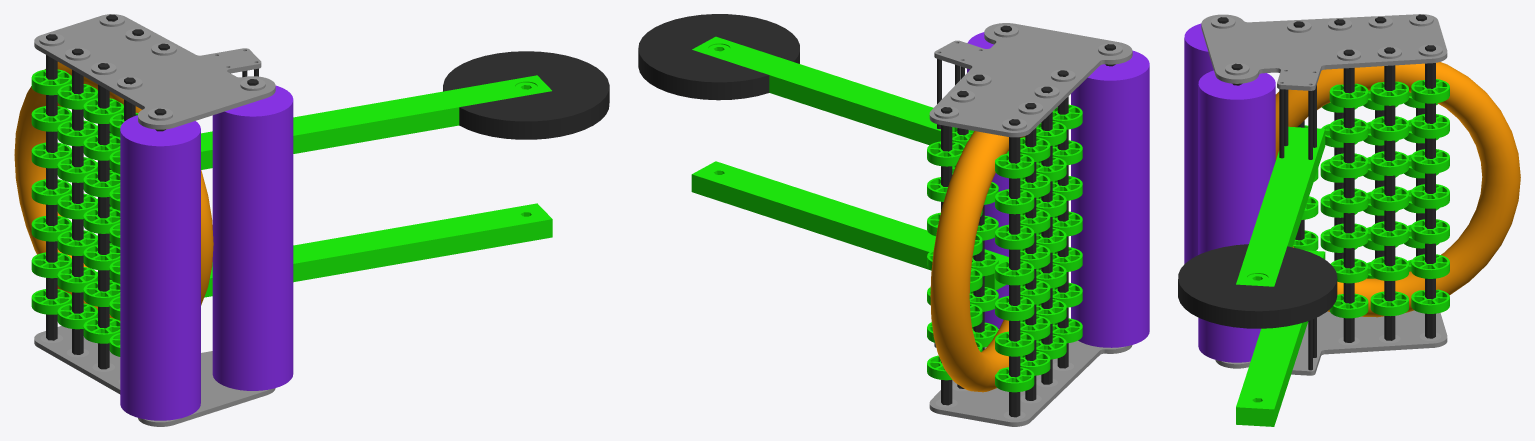
3 renders of one model, left to right at view 1: azimuth 30°, elevation 25°; view 2: azimuth 150°, elevation 25°; view 3: azimuth 270°, elevation 25°, orthographic. The views are drawn at different scales.
Visible parts, largest first — view 1: End Shaft- Shooter v1:3, End Shaft- Shooter v1:4, Component2:1, Component4:1, Component5:1, Component3:1, Note v1:2, Component2:2, End Shaft v5 (4):1, End Shaft v5:1, End Shaft v5 (3):1, Component15:4 (+20 smaller); view 2: End Shaft- Shooter v1:3, Component2:1, Note v1:2, Component4:1, Component5:1, Component3:1, Component2:2, End Shaft v5 (4):1, End Shaft- Shooter v1:4, End Shaft v5 (3):1, End Shaft v5:1, End Shaft v5 (5):1 (+31 smaller); view 3: End Shaft- Shooter v1:4, Note v1:2, Component2:1, Component4:1, Component3:1, Component5:1, Component2:2, End Shaft- Shooter v1:3, End Shaft v5 (6):1, End Shaft v5 (1):1, End Shaft v5 (2):1, Component9:2 (+26 smaller).
Part boxes in pixels (bbox=[...]): End Shaft- Shooter v1:3: bbox=[120, 108, 200, 420]; End Shaft- Shooter v1:4: bbox=[212, 79, 293, 390]; Component2:1: bbox=[34, 15, 275, 129]; Component4:1: bbox=[443, 51, 609, 139]; Component5:1: bbox=[204, 203, 552, 297]; Component3:1: bbox=[201, 75, 551, 169]; Note v1:2: bbox=[14, 62, 213, 320]; Component2:2: bbox=[34, 326, 275, 426]; End Shaft v5 (4):1: bbox=[46, 34, 57, 340]; End Shaft v5:1: bbox=[98, 63, 109, 369]; End Shaft v5 (3):1: bbox=[72, 48, 83, 354]; Component15:4: bbox=[31, 142, 71, 168]; End Shaft- Shooter v1:3: bbox=[1071, 44, 1149, 347]; Component2:1: bbox=[929, 23, 1132, 137]; Note v1:2: bbox=[930, 131, 1025, 392]; Component4:1: bbox=[638, 14, 799, 100]; Component5:1: bbox=[691, 161, 1008, 290]; Component3:1: bbox=[692, 36, 1008, 153]; Component2:2: bbox=[929, 329, 1132, 426]; End Shaft v5 (4):1: bbox=[1009, 119, 1020, 417]; End Shaft- Shooter v1:4: bbox=[967, 25, 1011, 328]; End Shaft v5 (3):1: bbox=[1025, 103, 1036, 400]; End Shaft v5:1: bbox=[1041, 86, 1052, 384]; End Shaft v5 (5):1: bbox=[1057, 70, 1068, 368]; End Shaft- Shooter v1:4: bbox=[1198, 63, 1275, 362]; Note v1:2: bbox=[1275, 62, 1520, 317]; Component2:1: bbox=[1201, 14, 1447, 90]; Component4:1: bbox=[1178, 244, 1337, 328]; Component3:1: bbox=[1236, 126, 1325, 286]; Component5:1: bbox=[1236, 250, 1325, 426]; Component2:2: bbox=[1215, 310, 1447, 375]; End Shaft- Shooter v1:3: bbox=[1184, 17, 1228, 263]; End Shaft v5 (6):1: bbox=[1384, 47, 1395, 340]; End Shaft v5 (1):1: bbox=[1343, 49, 1354, 342]; End Shaft v5 (2):1: bbox=[1425, 45, 1435, 338]; Component9:2: bbox=[1329, 223, 1368, 248].
Bounding box in the file's own units: 0.7131 × 0.4318 × 0.4502.
